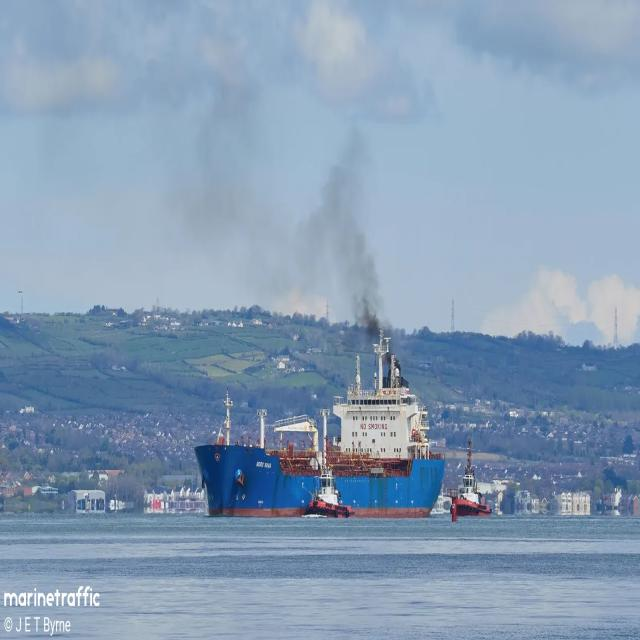Tanker: (196, 329, 444, 517)
Tug: (451, 440, 491, 521), (305, 467, 353, 517)
